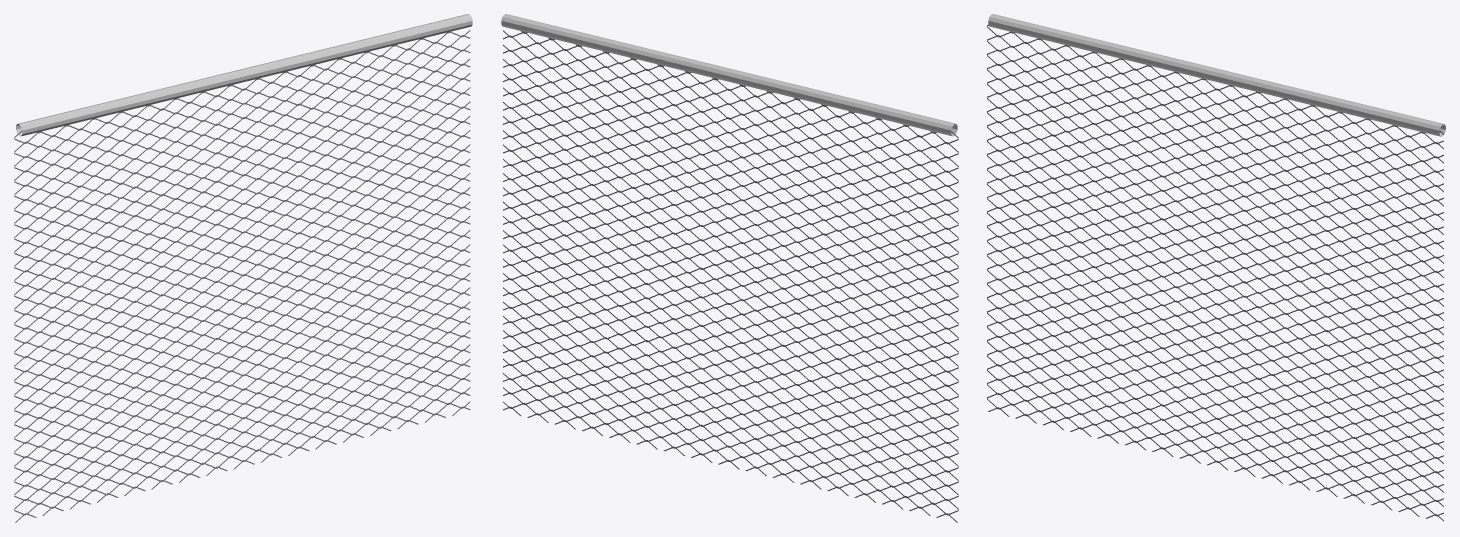
The model's file is steel_fence_3 1.fbx.
The picture shows the model from 3 angles, left to right: view 1: azimuth 30°, elevation 25°; view 2: azimuth 150°, elevation 25°; view 3: azimuth 330°, elevation 25°; orthographic projection.
Visible parts, largest first — view 1: Object206; view 2: Object206; view 3: Object206.
Part boxes in pixels (bbox=[...]): Object206: bbox=[14, 14, 472, 522]; Object206: bbox=[501, 14, 958, 522]; Object206: bbox=[987, 14, 1445, 521].
Size of the model in its own units: 402 by 335 by 9.62.
